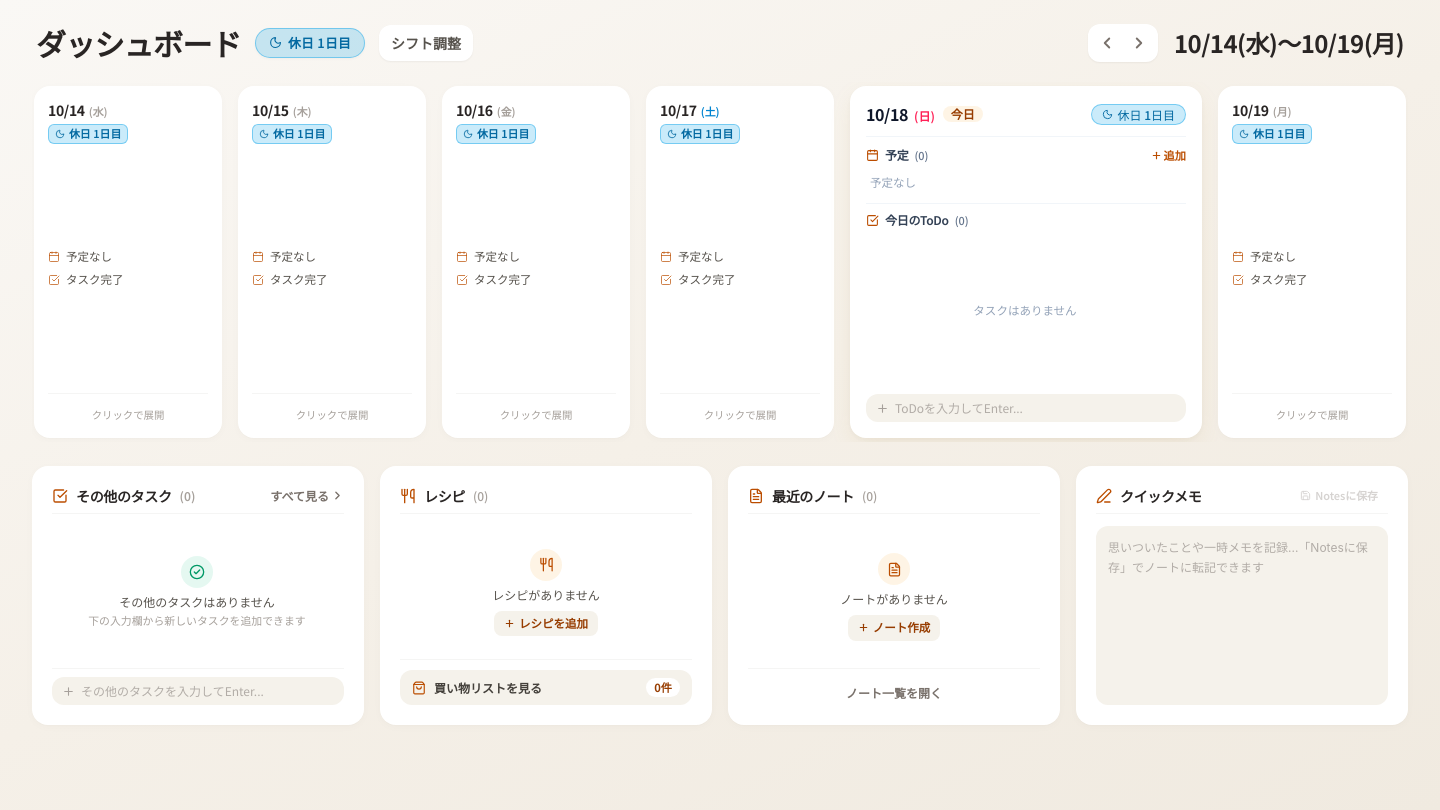
Test: Dashboard コンポーネント › フォーカスカード内の「追加」ボタンをクリックしたときに予定追加ポップアップモーダルが開くこと
Click the button "追加".
click(1168, 155)  # box x1=1151 y1=147 x2=1186 y2=164
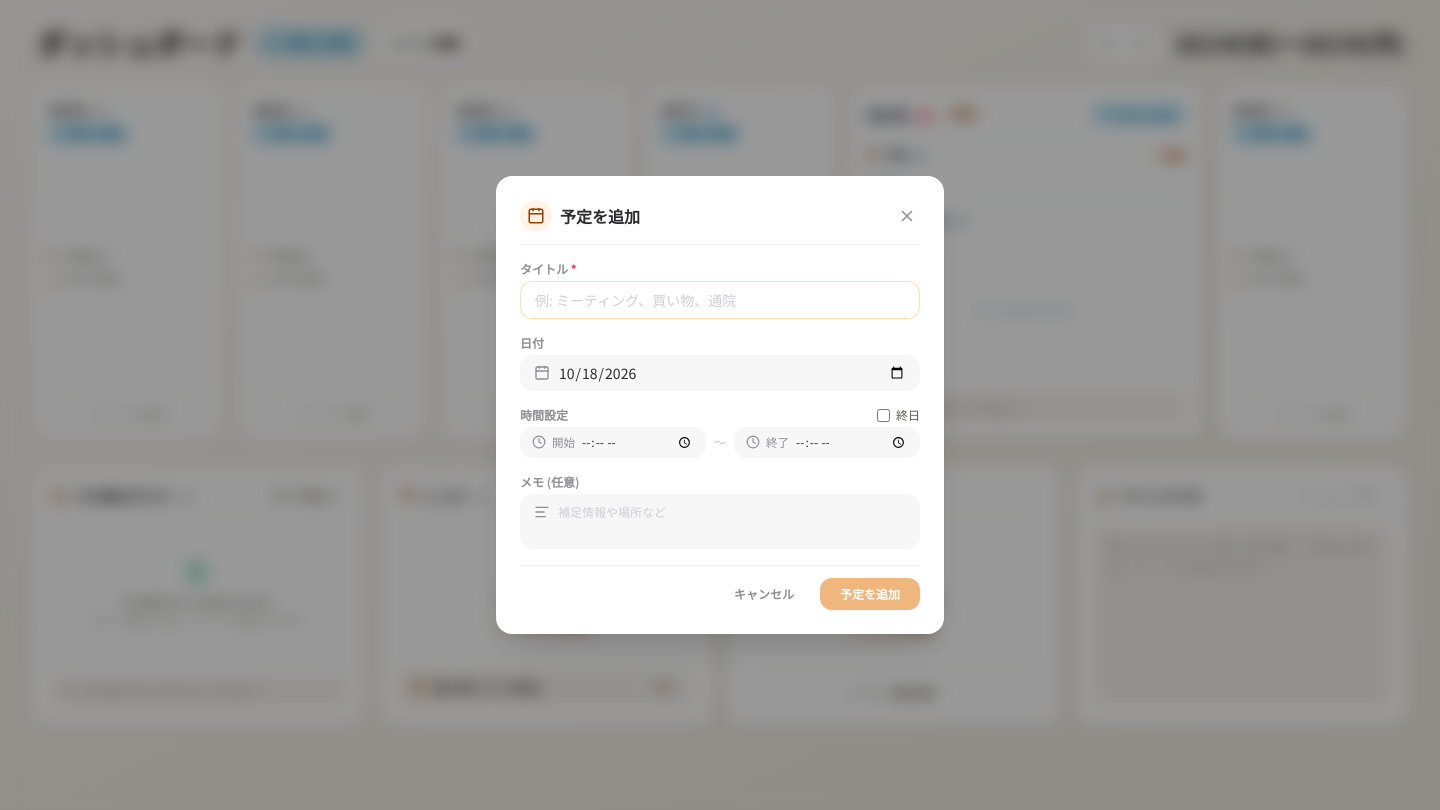
Now the dialog is shown
Now the field with placeholder "例: ミーティング、買い物、通院" is shown, box x1=520 y1=281 x2=920 y2=319
